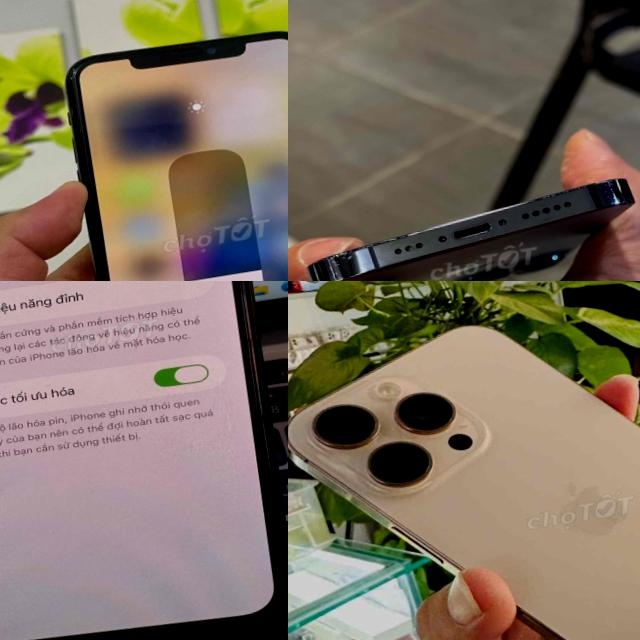gen_11: (0, 281, 288, 640), (46, 8, 288, 281)
gen_12_13: (293, 163, 640, 281)
gen_16: (288, 326, 640, 640)
scratch: (370, 184, 590, 248), (318, 240, 382, 281), (583, 172, 639, 214)
